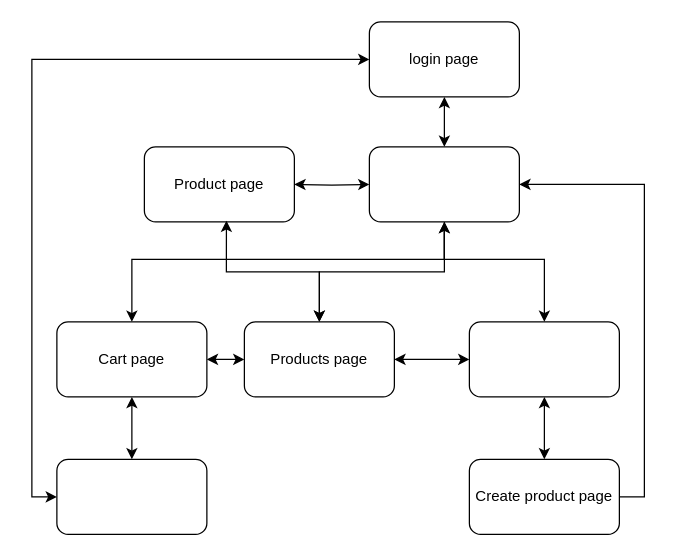
The diagram is 676 pixels wide and 556 high, and some of its shapes have lost their labels. The centre of each missing label's shape, as x and y in pixels:
Home page: point 443,184
Onwer dashboard: point 543,359
Order page: point 131,496
